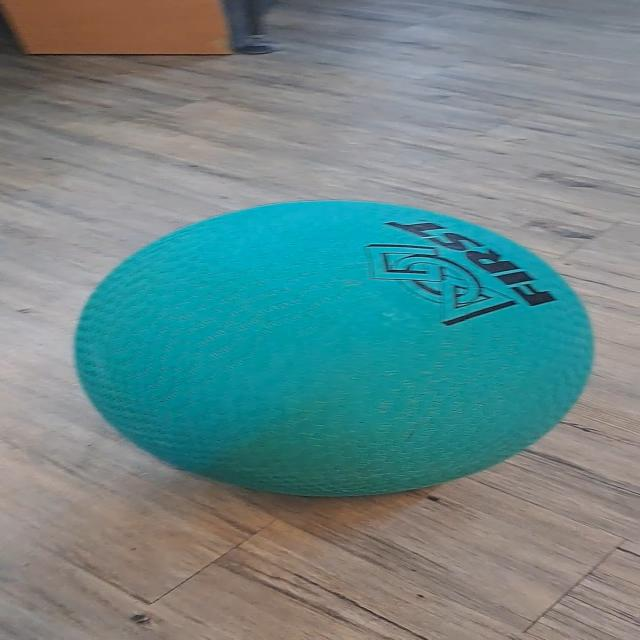ALGAE: (71, 198, 597, 498)
